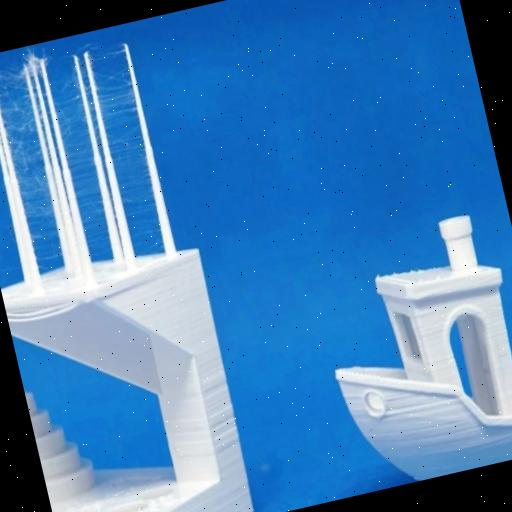stringing: (92, 74, 158, 212), (0, 70, 56, 231)
